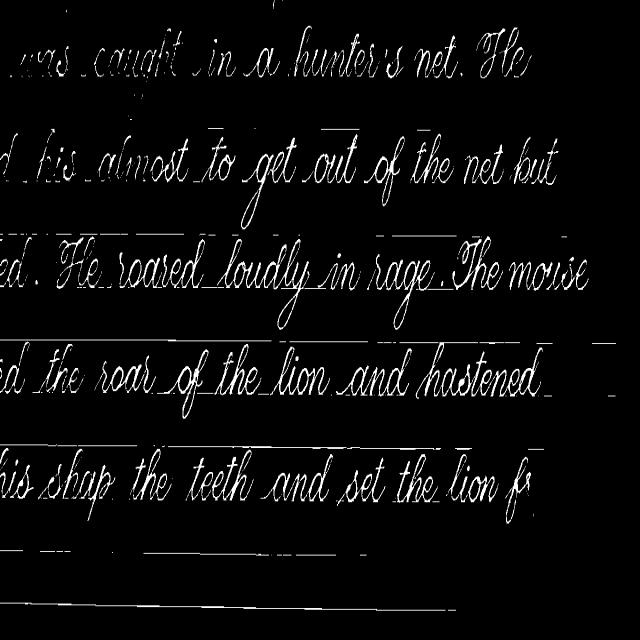noise: (0, 600, 456, 614), (140, 543, 348, 557), (158, 444, 473, 452), (0, 442, 139, 452), (377, 340, 521, 346), (0, 338, 272, 341), (0, 546, 76, 555), (199, 230, 279, 238), (376, 233, 460, 238), (526, 445, 552, 459), (289, 340, 368, 344), (54, 232, 132, 236), (580, 340, 618, 348), (320, 127, 360, 132), (0, 233, 40, 237), (134, 233, 184, 236), (256, 387, 270, 396), (196, 392, 214, 398), (536, 341, 554, 346), (358, 550, 370, 557), (304, 285, 320, 289), (469, 235, 483, 239), (156, 390, 170, 394), (202, 285, 216, 288), (561, 235, 569, 239), (208, 127, 224, 129), (607, 394, 616, 396), (544, 395, 552, 396)
not-noise: (80, 26, 464, 79), (239, 128, 456, 206), (218, 237, 309, 330), (80, 135, 237, 183), (450, 237, 588, 291), (0, 445, 114, 506), (418, 343, 542, 396), (367, 254, 450, 329), (461, 137, 558, 185), (118, 239, 205, 288), (336, 349, 411, 396), (260, 453, 332, 501), (186, 450, 254, 499), (56, 235, 112, 288), (271, 347, 330, 395), (476, 28, 531, 77), (170, 349, 208, 418), (446, 452, 498, 502), (34, 129, 78, 184), (36, 343, 84, 393), (215, 344, 261, 395), (95, 356, 156, 393), (336, 458, 384, 505), (394, 453, 438, 502), (130, 448, 171, 500), (506, 456, 531, 524), (0, 236, 32, 287), (0, 340, 29, 393), (20, 46, 70, 76), (0, 342, 28, 393), (318, 261, 360, 289), (128, 83, 148, 120), (0, 133, 16, 178), (337, 253, 341, 260), (36, 279, 38, 284)
